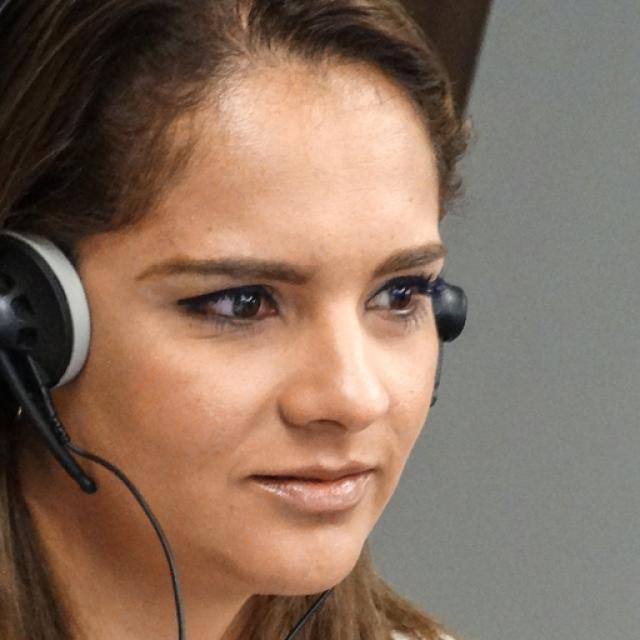0_rostro_limpio: (84, 0, 441, 596)
